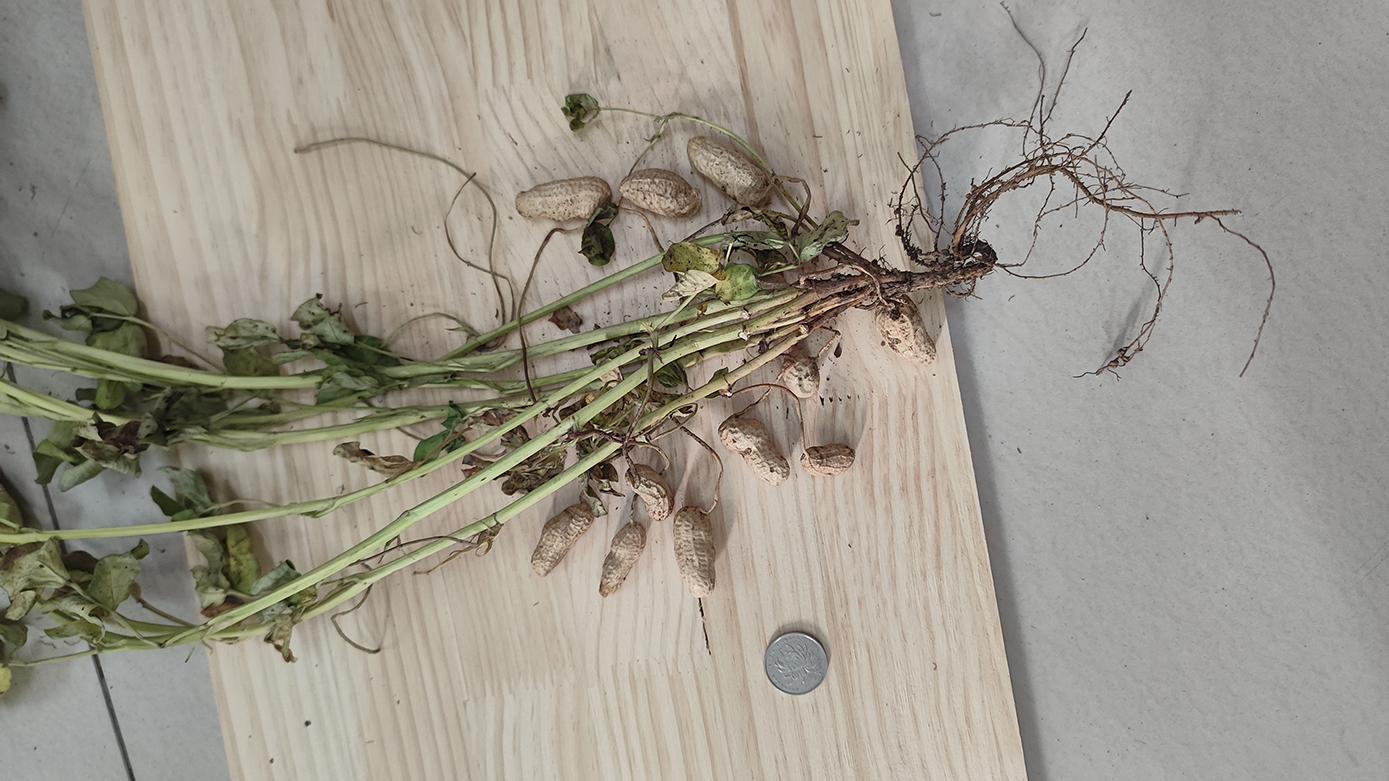h: (685, 135, 774, 204), (719, 414, 792, 485), (530, 501, 595, 578), (514, 175, 613, 222), (672, 506, 718, 599), (619, 170, 704, 218), (877, 295, 936, 364), (599, 522, 647, 597), (625, 464, 673, 521), (780, 348, 819, 396), (801, 443, 857, 476)
